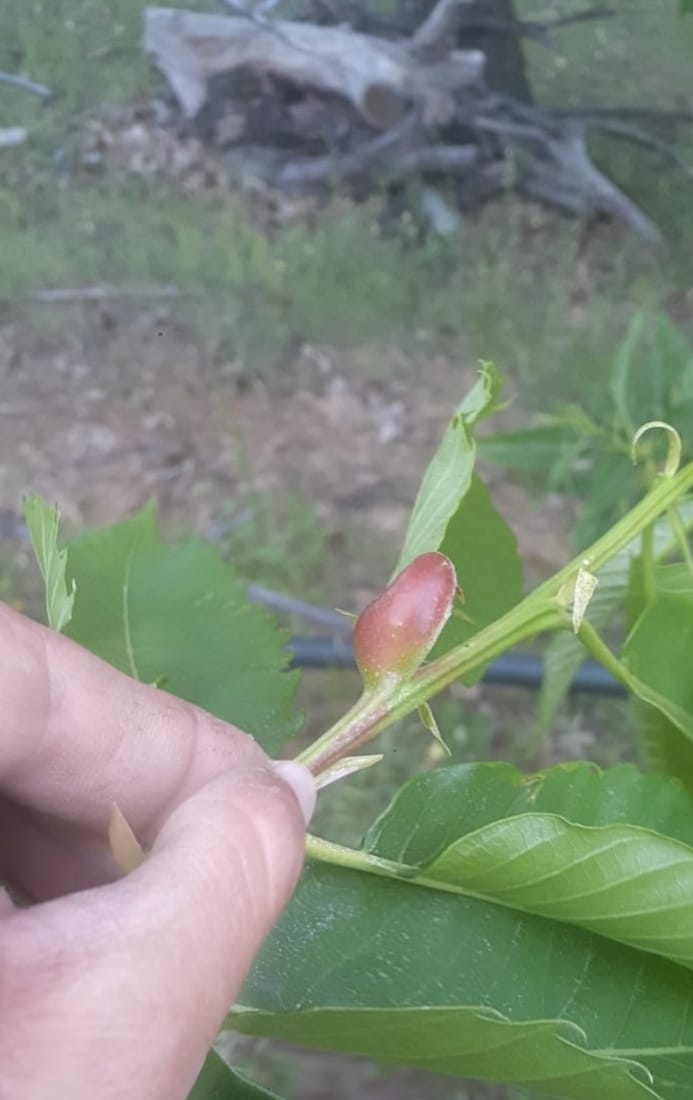galarisi: (343, 535, 457, 719)
